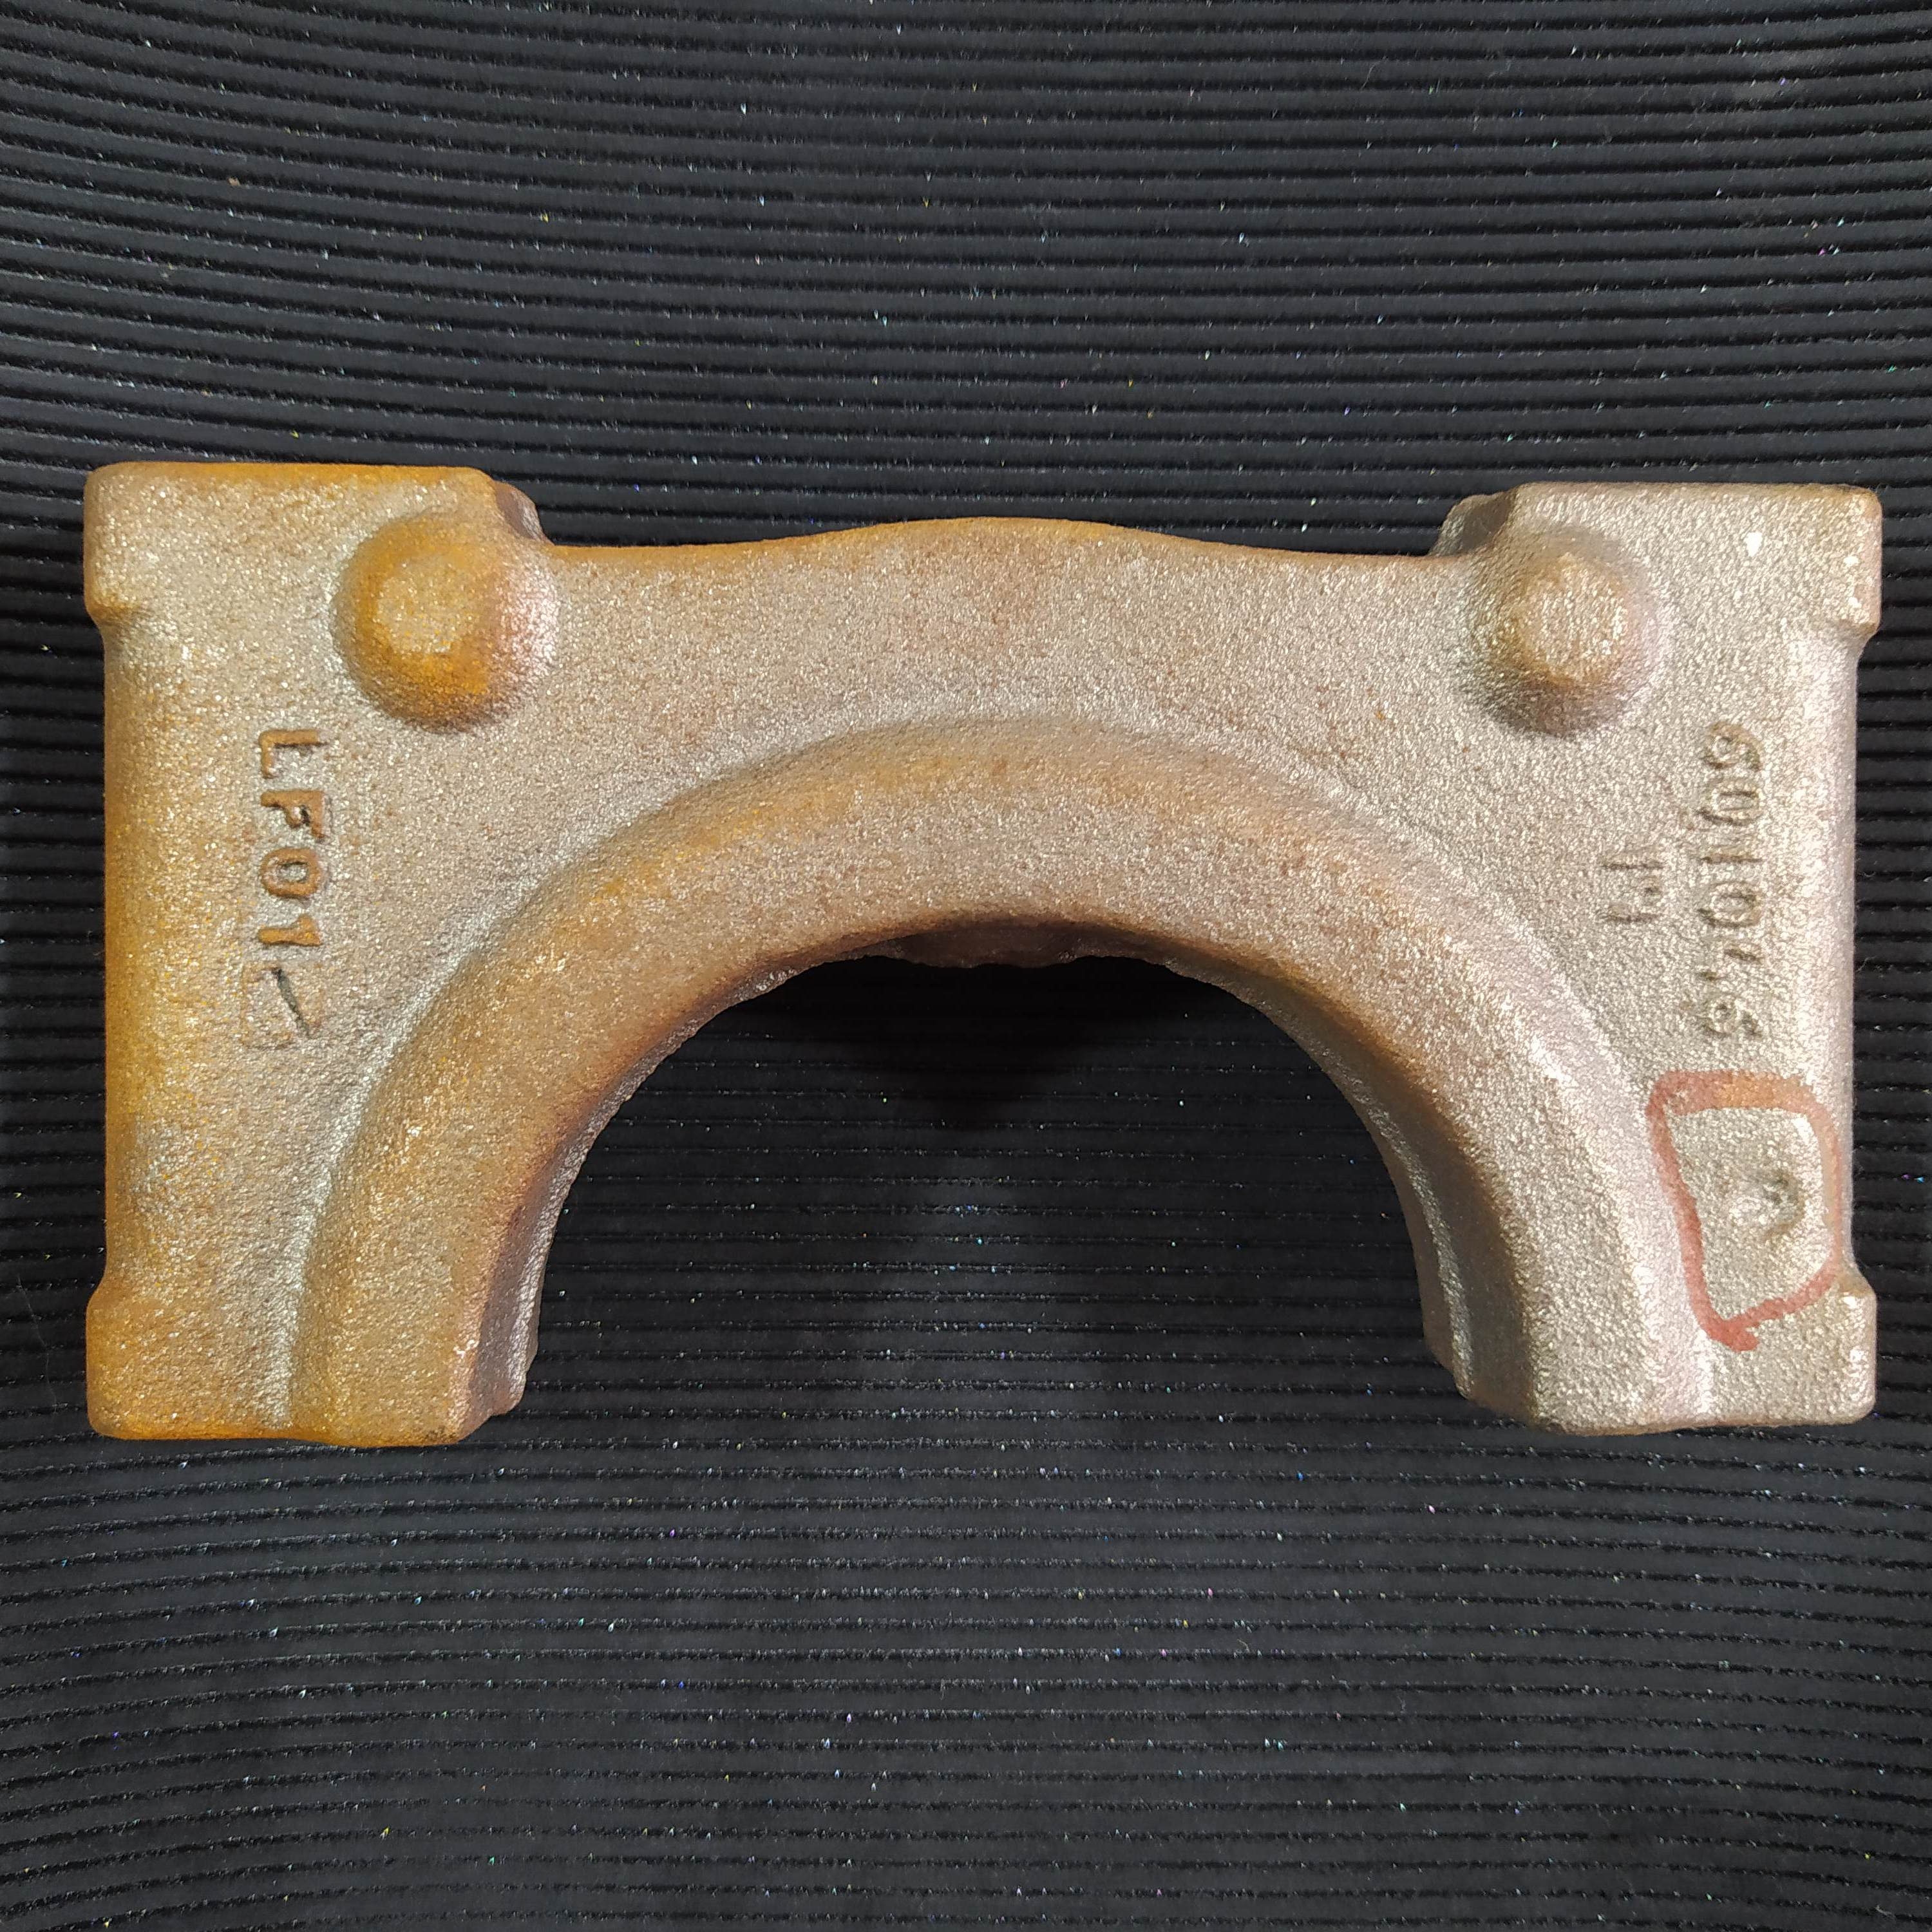buraco: (1723, 1159, 1810, 1254)
